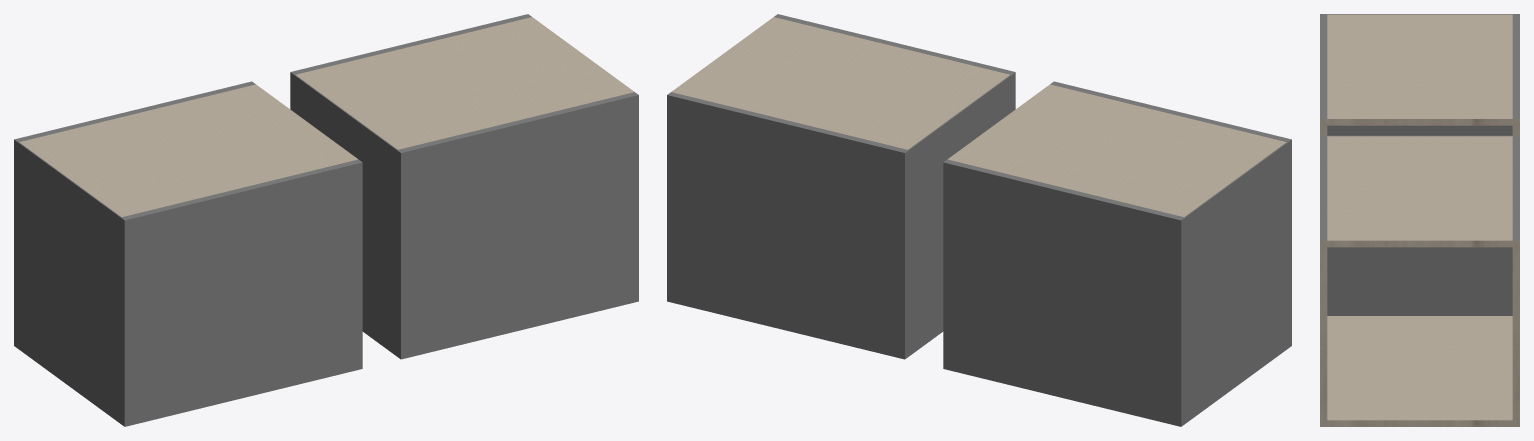
Rendered from two-cabinets.glb.
The picture shows the model from 3 angles, left to right: view 1: azimuth 30°, elevation 25°; view 2: azimuth 150°, elevation 25°; view 3: azimuth 270°, elevation 25°; orthographic projection. The views are drawn at different scales.
Visible parts, largest first — view 1: k2 - leva, B-k2 - leva, k1 - gor, B-k1 - gor, k1 - hrbet, B-k1 - hrbet, k2 - desna, B-k2 - desna; view 2: k2 - desna, B-k2 - desna, k1 - gor, B-k1 - gor, k1 - hrbet, B-k1 - hrbet, k2 - leva, B-k2 - leva; view 3: k1 - gor, B-k1 - gor, B-k1 - dol, B-k1 - hrbet, B-k2 - leva, B-k2 - desna, k1 - hrbet, k2 - leva, k2 - desna.
Boxes of the visible parts, left/top/right/bottom form: k2 - leva: left=122, top=159, right=362, bottom=426; B-k2 - leva: left=398, top=92, right=638, bottom=358; k1 - gor: left=19, top=84, right=358, bottom=216; B-k1 - gor: left=296, top=17, right=634, bottom=149; k1 - hrbet: left=14, top=139, right=125, bottom=426; B-k1 - hrbet: left=290, top=72, right=402, bottom=359; k2 - desna: left=15, top=81, right=255, bottom=141; B-k2 - desna: left=292, top=14, right=531, bottom=74; k2 - desna: left=943, top=159, right=1183, bottom=426; B-k2 - desna: left=667, top=92, right=907, bottom=358; k1 - gor: left=947, top=84, right=1286, bottom=216; B-k1 - gor: left=671, top=17, right=1009, bottom=149; k1 - hrbet: left=1180, top=139, right=1291, bottom=426; B-k1 - hrbet: left=903, top=72, right=1015, bottom=359; k2 - leva: left=1050, top=81, right=1290, bottom=141; B-k2 - leva: left=774, top=14, right=1013, bottom=74; k1 - gor: left=1327, top=14, right=1512, bottom=125; B-k1 - gor: left=1327, top=136, right=1512, bottom=247; B-k1 - dol: left=1327, top=316, right=1512, bottom=426; B-k1 - hrbet: left=1320, top=135, right=1519, bottom=315; B-k2 - leva: left=1320, top=136, right=1327, bottom=426; B-k2 - desna: left=1512, top=136, right=1519, bottom=426; k1 - hrbet: left=1320, top=14, right=1519, bottom=135; k2 - leva: left=1320, top=14, right=1327, bottom=135; k2 - desna: left=1512, top=14, right=1519, bottom=135.
Size of the model in its own units: 1.3 by 0.5 by 0.486.
Materials: 2 (1 with a texture image).
